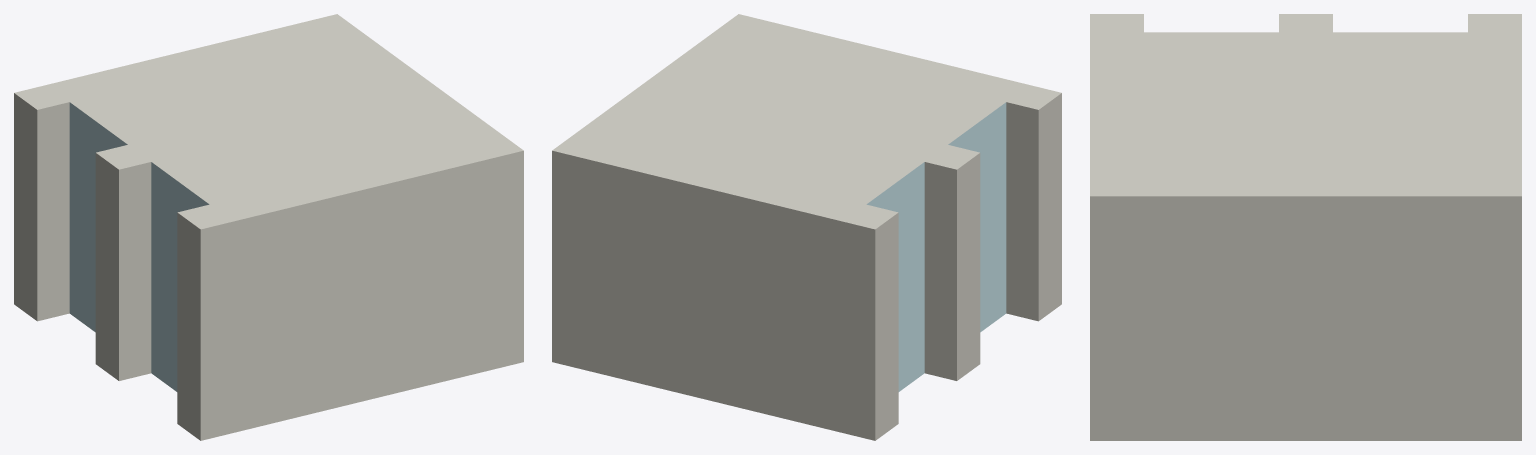
The model's file is building_020.glb.
3 renders of one model, left to right at view 1: azimuth 30°, elevation 25°; view 2: azimuth 150°, elevation 25°; view 3: azimuth 270°, elevation 25°, orthographic. The views are drawn at different scales.
Parts seen in each view (by area): view 1: building_020; view 2: building_020; view 3: building_020.
Part boxes in pixels (x1=…): building_020: x1=14, y1=14, x2=523, y2=440; building_020: x1=552, y1=14, x2=1061, y2=440; building_020: x1=1090, y1=14, x2=1521, y2=440.
Bounding box in the file's own units: 1 × 0.625 × 1.
